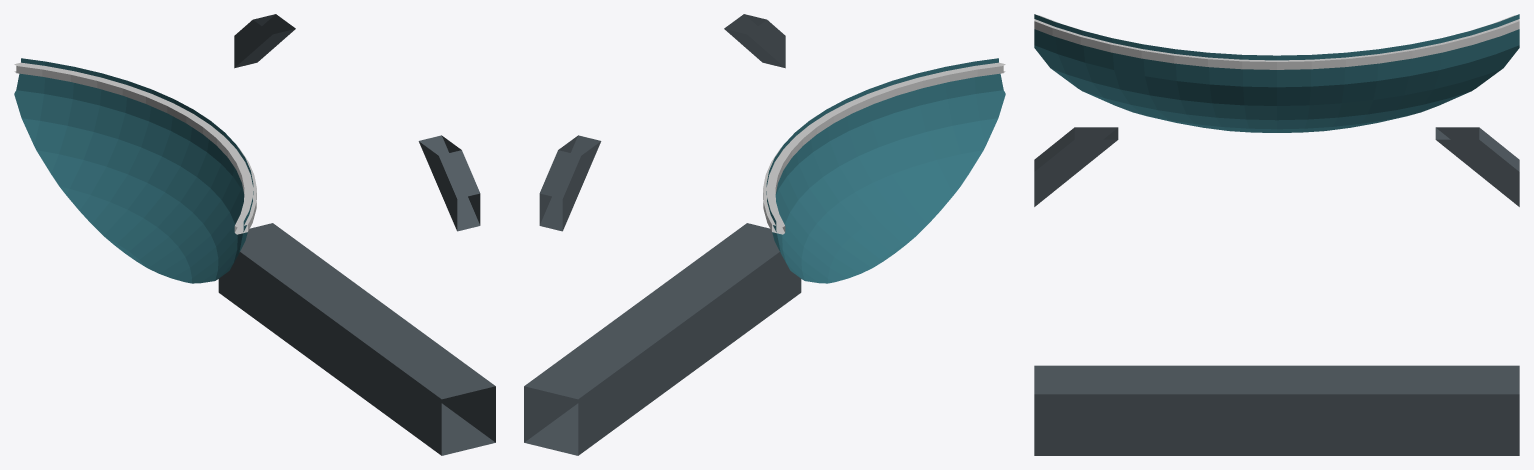
Rendered from cell_5.obj.
3 renders of one model, left to right at view 1: azimuth 30°, elevation 25°; view 2: azimuth 150°, elevation 25°; view 3: azimuth 270°, elevation 25°, orthographic. The views are drawn at different scales.
Bounding box in the file's own units: 0.67 × 0.7 × 1.
